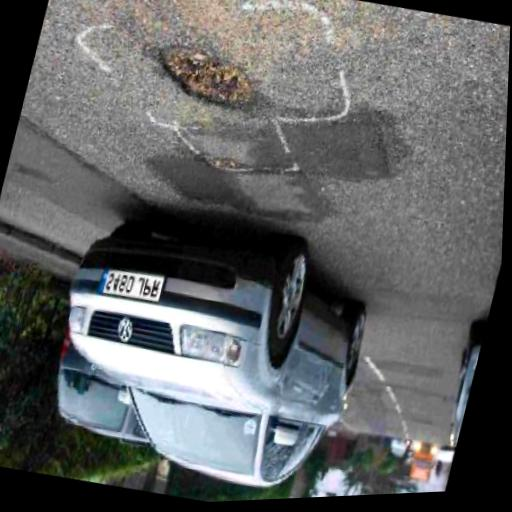pothole: (143, 34, 264, 120), (191, 149, 256, 185)
